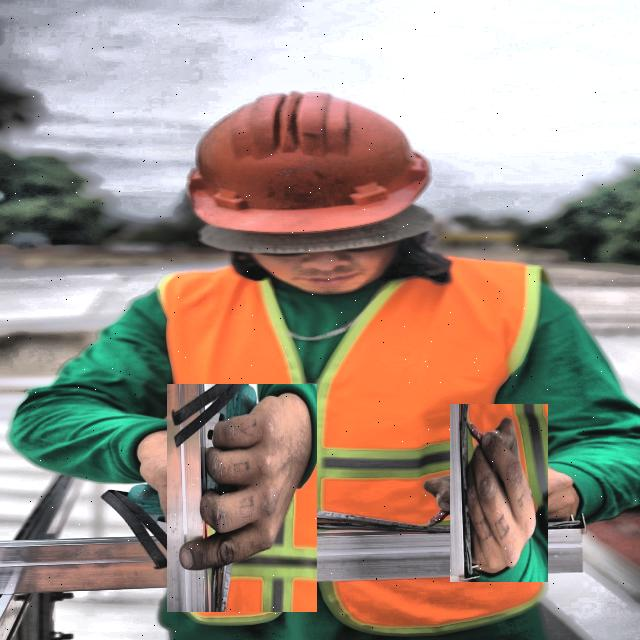not-gloved: (148, 404, 336, 593), (429, 424, 568, 563)
